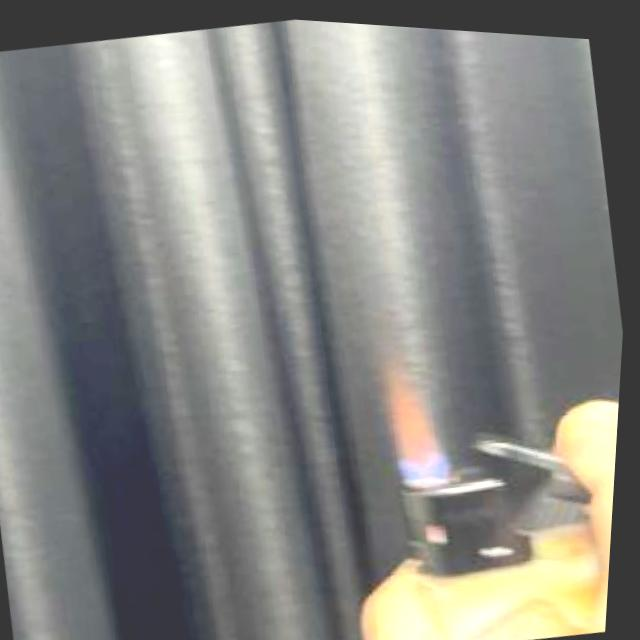fire: (370, 329, 463, 485)
